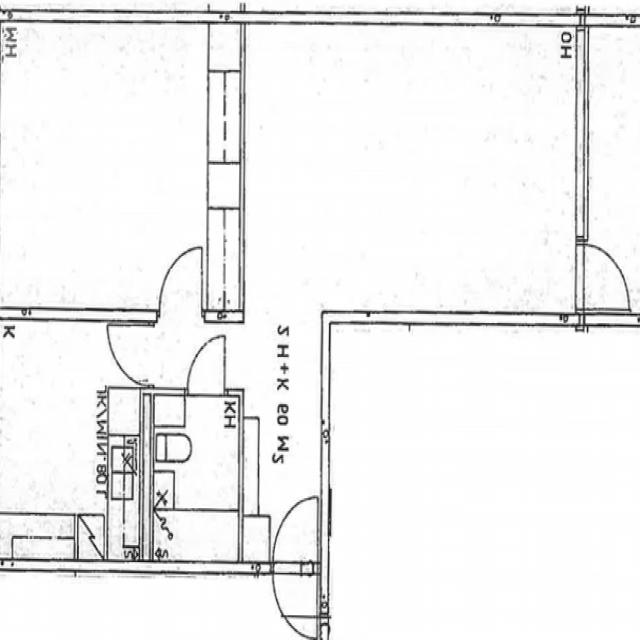door: (578, 243, 632, 309), (273, 558, 318, 636), (273, 494, 318, 570), (160, 246, 204, 322), (108, 324, 154, 384), (188, 336, 224, 396)
